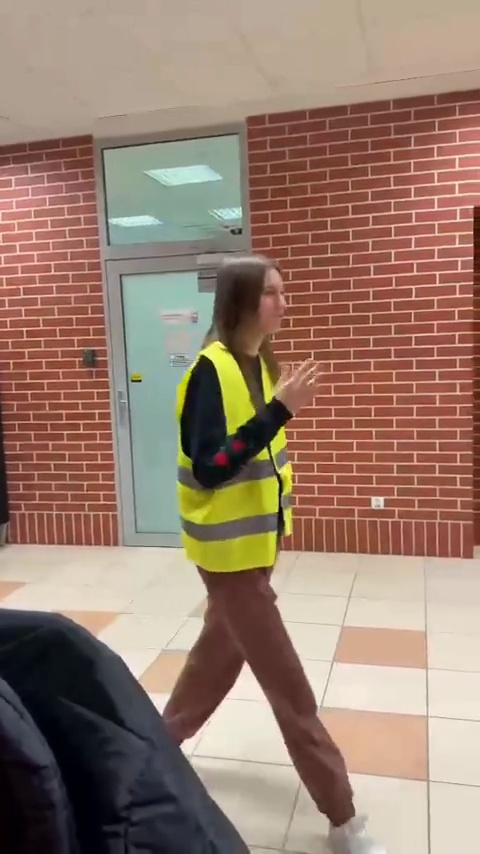vest: (163, 250, 360, 836)
